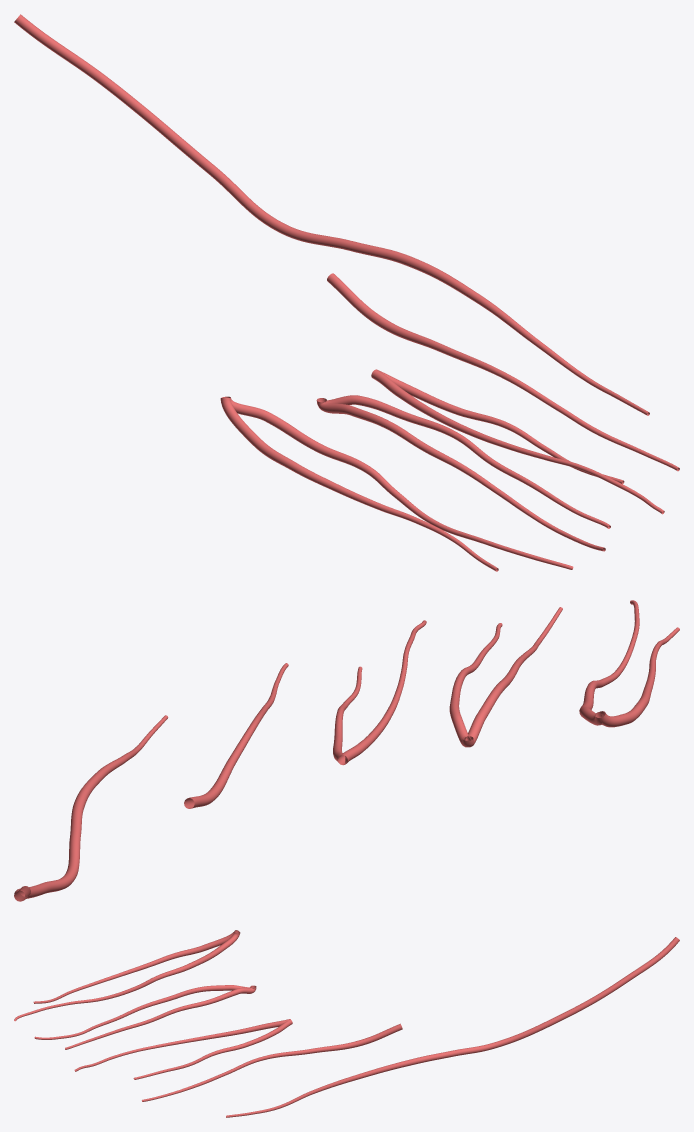
The model's file is Dorsal_digital_arteries_foot_left.glb.
The picture shows the model from 3 angles, top to bottom: view 1: azimuth 30°, elevation 25°; view 2: azimuth 150°, elevation 25°; view 3: azimuth 270°, elevation 25°; orthographic projection. The views are drawn at different scales.
Parts seen in each view (by area): view 1: Dorsal_digital_arteries_of_foot.l_BezierCurve.218; view 2: Dorsal_digital_arteries_of_foot.l_BezierCurve.218; view 3: Dorsal_digital_arteries_of_foot.l_BezierCurve.218.
Boxes of the visible parts, <box> form: Dorsal_digital_arteries_of_foot.l_BezierCurve.218: <box>14,14,679,571</box>; Dorsal_digital_arteries_of_foot.l_BezierCurve.218: <box>14,600,679,901</box>; Dorsal_digital_arteries_of_foot.l_BezierCurve.218: <box>14,930,679,1117</box>.
Size of the model in its own units: 0.0631 by 0.0264 by 0.1462.
